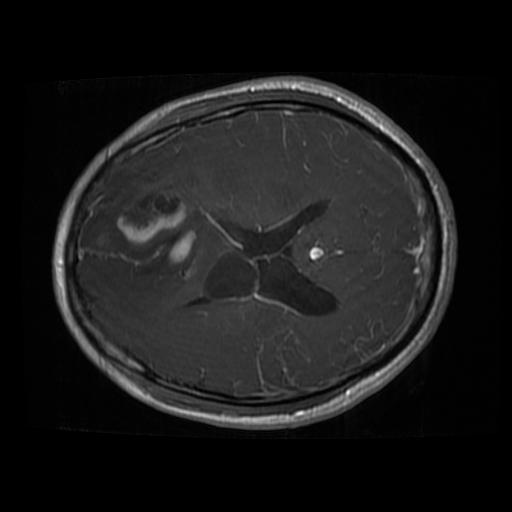glioma: (195, 202, 332, 317)
